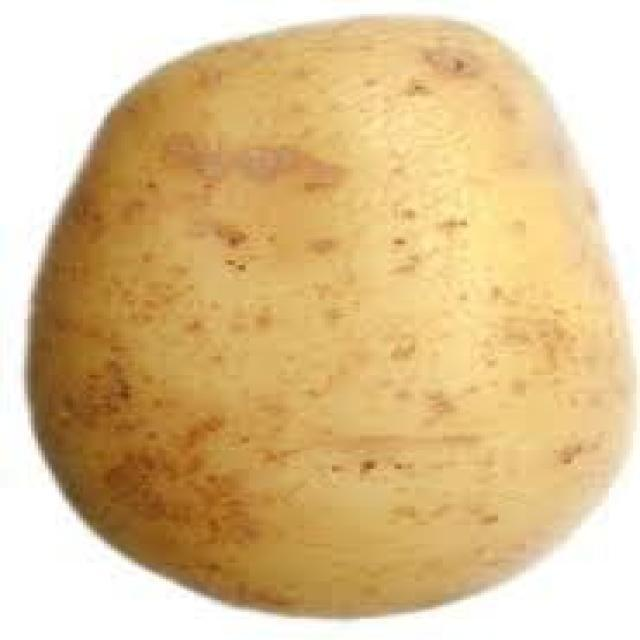Potato: (22, 15, 638, 621)
